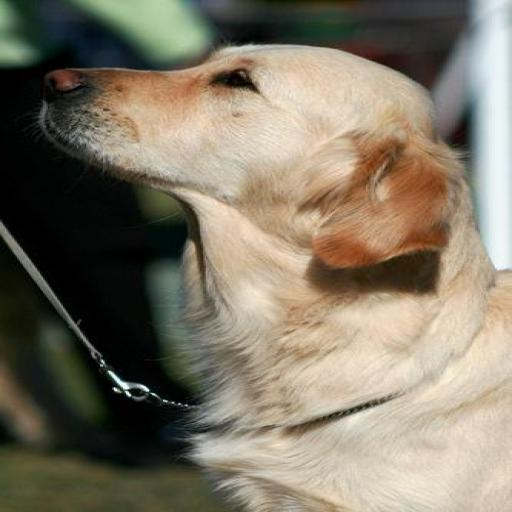dog_face: (38, 36, 465, 272)
